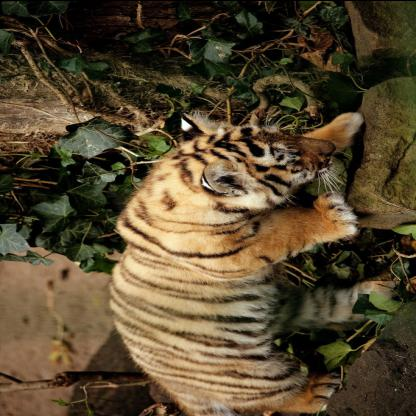tiger: (172, 102, 340, 202)
